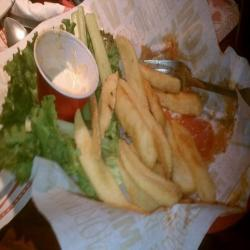fries: (87, 33, 219, 220)
salad: (2, 42, 50, 171)
